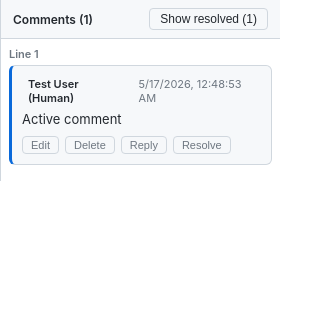
14.3 – CommentsPanel › 'Show resolved' toggle shows resolved comments
Expected: the text "Active comment" is shown, [22,111,122,127]
Expected: the text "Resolved comment" is not shown
Click the button "Show resolved (1)" at [209, 19], box [149,8,268,30]
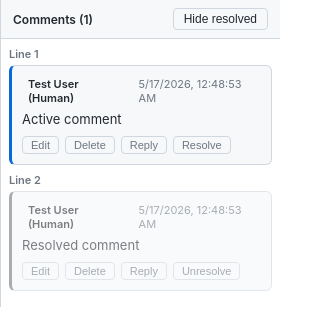
Expected: the text "Active comment" is shown, [22,111,122,127]
Expected: the text "Resolved comment" is shown, [22,237,139,253]
